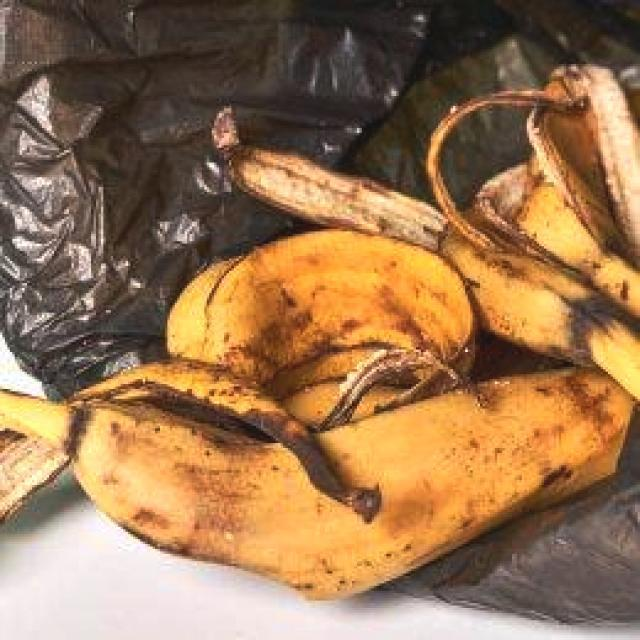Garbage: (0, 42, 638, 613)
Plastic: (0, 0, 640, 397), (396, 415, 640, 640)
